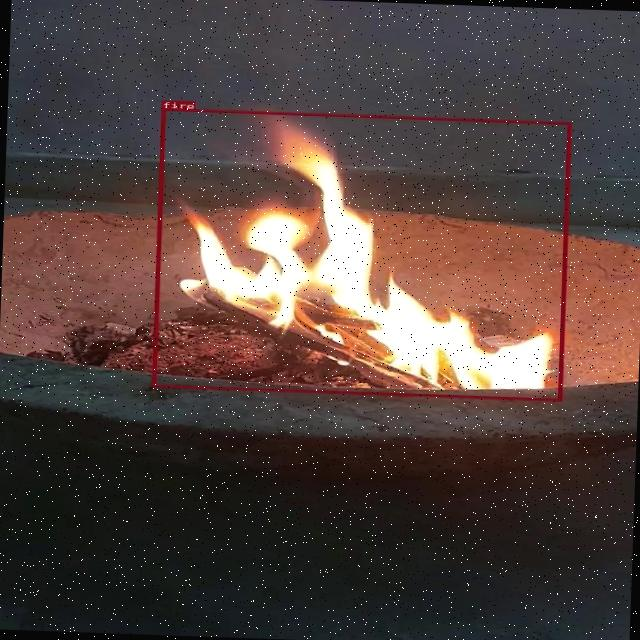fire: (151, 107, 570, 400)
